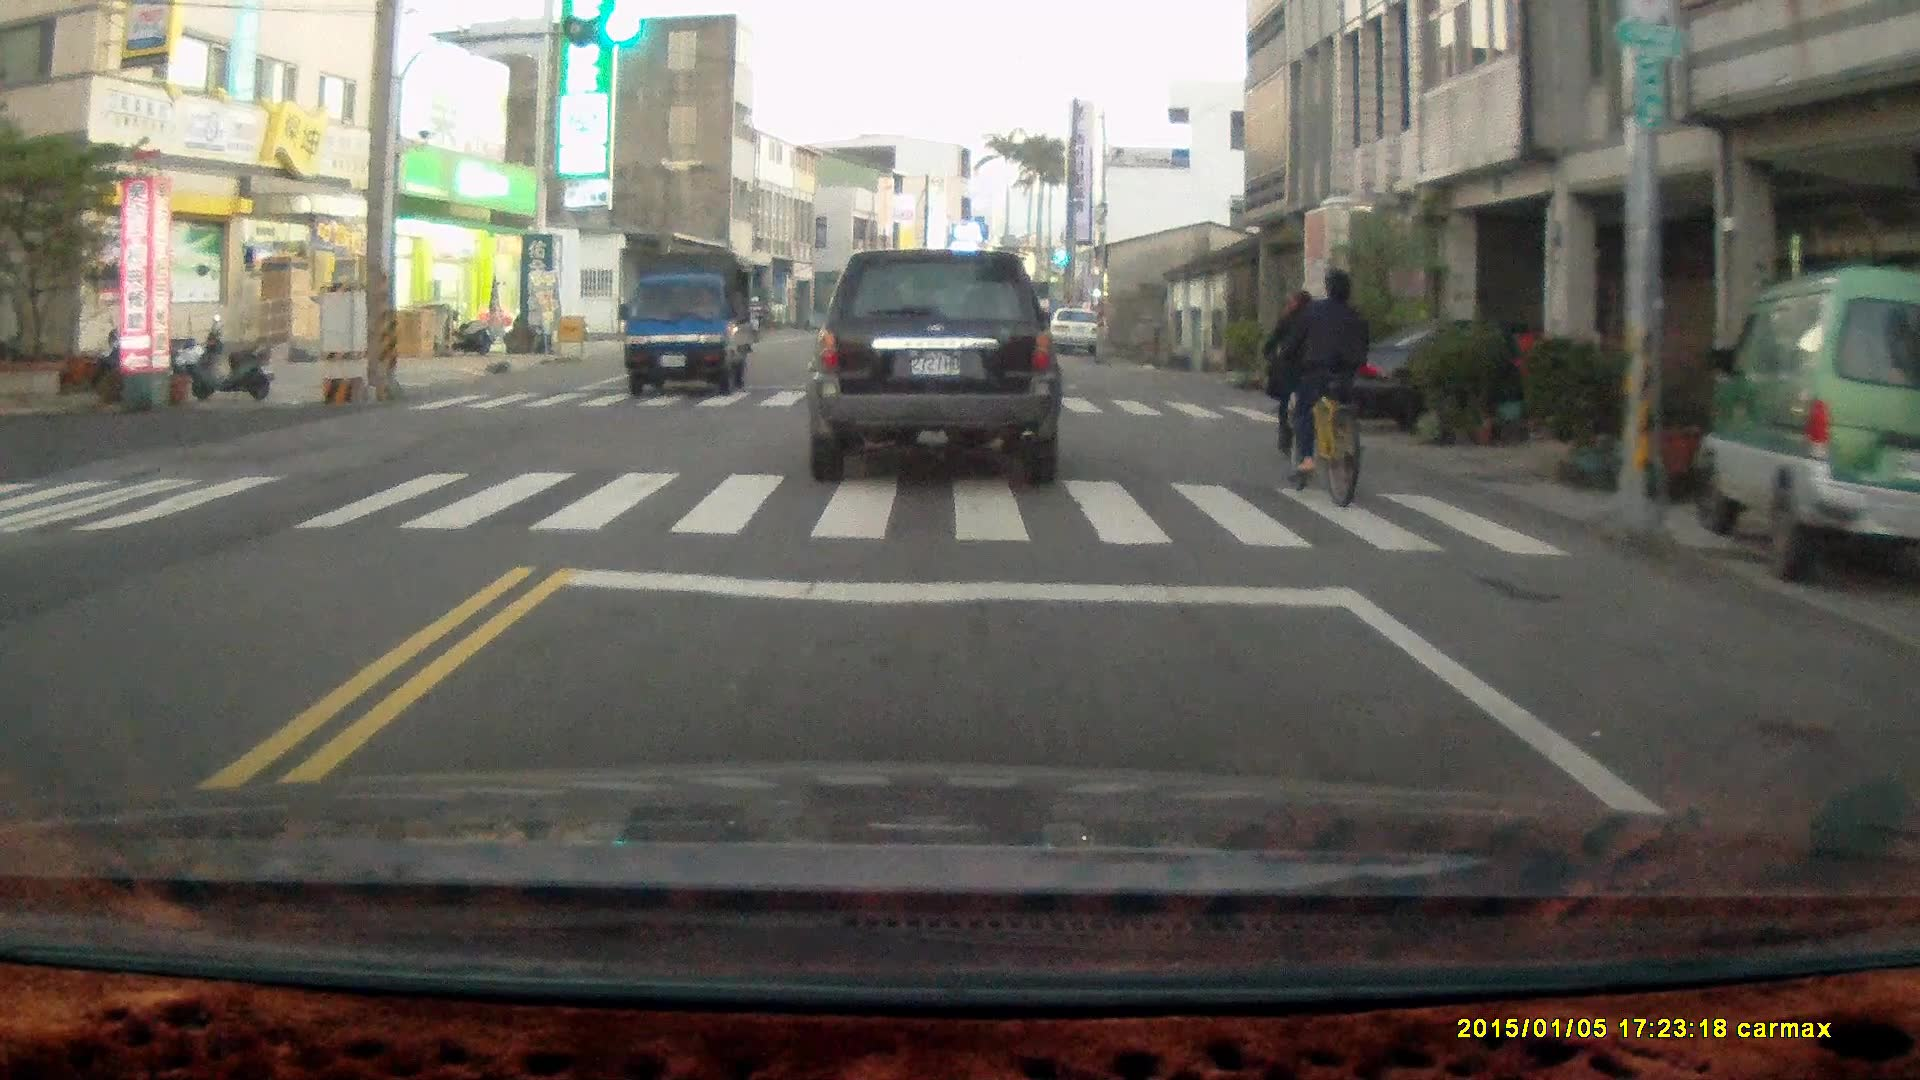rider: (1278, 261, 1375, 500), (1267, 274, 1331, 449), (743, 293, 766, 344)
vehicle: (1705, 277, 1920, 590), (804, 245, 1063, 482), (1352, 316, 1669, 445), (623, 247, 759, 399), (1049, 307, 1110, 358)
